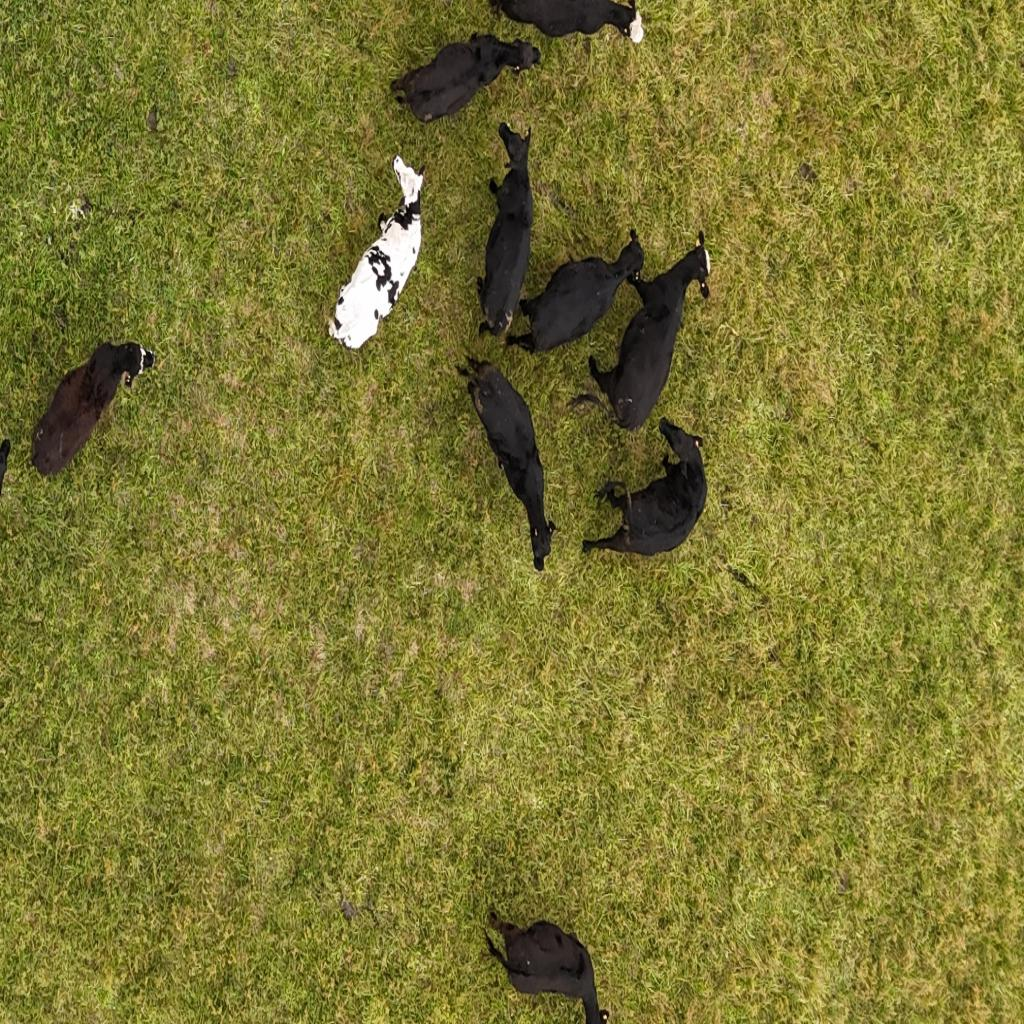cow: (579, 236, 712, 436), (502, 181, 647, 364), (462, 352, 558, 573), (326, 151, 428, 354), (580, 414, 710, 560), (29, 337, 161, 479), (484, 908, 608, 1024), (473, 116, 535, 346), (391, 30, 538, 124), (484, 0, 648, 48)
